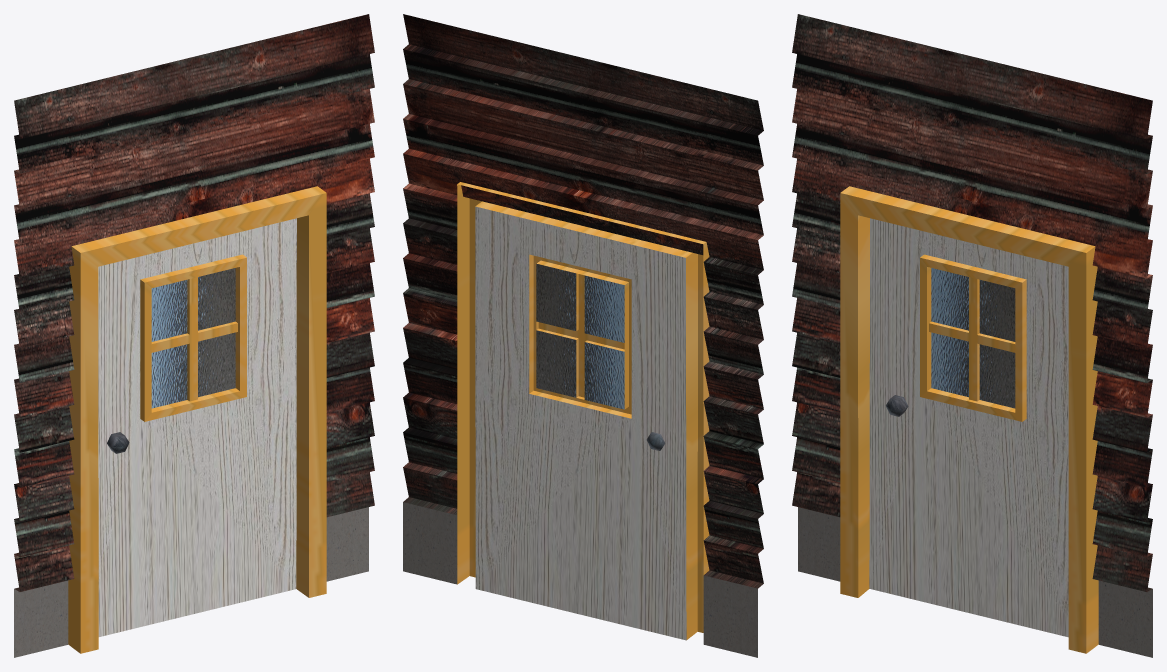
Rendered from SidingDoor_T.fbx.
3 views of the same model, side by side, from view 1: azimuth 30°, elevation 25°; view 2: azimuth 150°, elevation 25°; view 3: azimuth 330°, elevation 25° (orthographic).
Parts seen in each view (by area): view 1: SidingDoor, Door, DoorFrame, DoorGlass, GlassFrame, DoorFoundation; view 2: SidingDoor, Door, DoorFrame, DoorGlass, DoorFoundation, GlassFrame; view 3: SidingDoor, Door, DoorFrame, DoorGlass, GlassFrame, DoorFoundation.
Part boxes in pixels (bbox=[...]): SidingDoor: bbox=[14, 14, 374, 591]; Door: bbox=[98, 218, 296, 636]; DoorFrame: bbox=[68, 186, 326, 653]; DoorGlass: bbox=[151, 268, 235, 408]; GlassFrame: bbox=[140, 254, 246, 421]; DoorFoundation: bbox=[14, 507, 368, 657]; SidingDoor: bbox=[403, 14, 763, 588]; Door: bbox=[475, 206, 686, 640]; DoorFrame: bbox=[457, 182, 709, 639]; DoorGlass: bbox=[536, 263, 624, 409]; DoorFoundation: bbox=[403, 502, 757, 657]; GlassFrame: bbox=[529, 254, 631, 418]; SidingDoor: bbox=[792, 14, 1152, 591]; Door: bbox=[869, 218, 1068, 637]; DoorFrame: bbox=[840, 186, 1098, 653]; DoorGlass: bbox=[931, 268, 1015, 408]; GlassFrame: bbox=[920, 254, 1026, 421]; DoorFoundation: bbox=[798, 507, 1152, 657].
Size of the model in its own units: 1 by 1.5 by 0.0784.
Materials: 6 (6 with a texture image).
